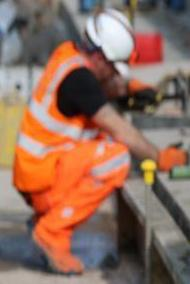hat: (80, 4, 158, 81)
vest: (13, 27, 110, 216)
